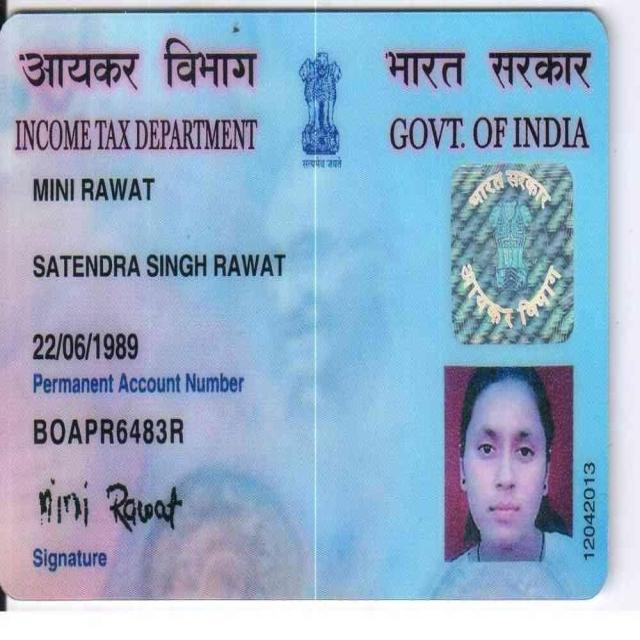pan_card: (0, 20, 601, 592)
